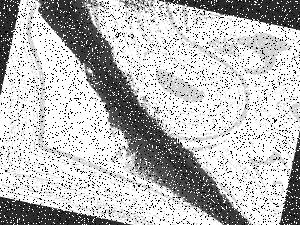shotgun: (37, 0, 263, 225)
